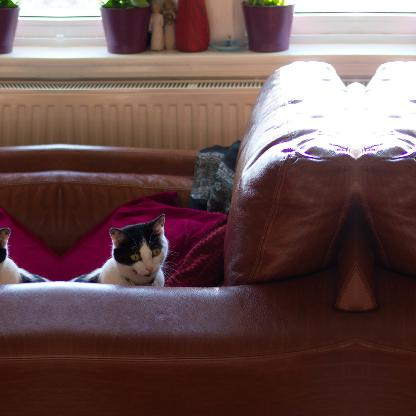Cat: (70, 214, 174, 289), (0, 214, 49, 290)
